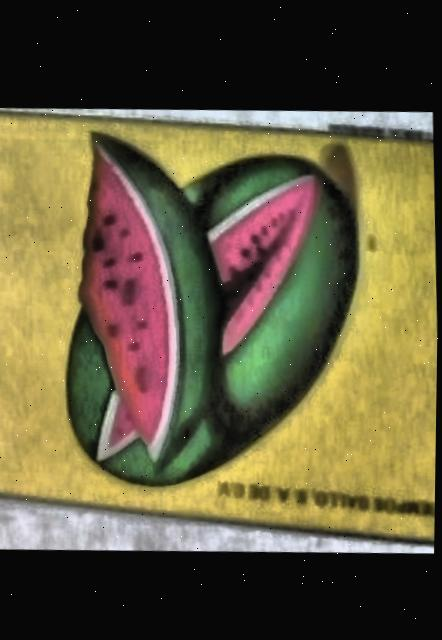La Sandia: (0, 110, 438, 538)
